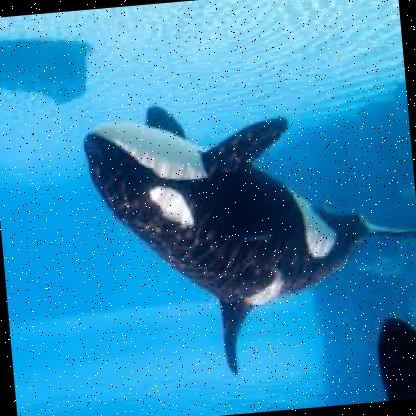blue_whale: (70, 81, 415, 382)
